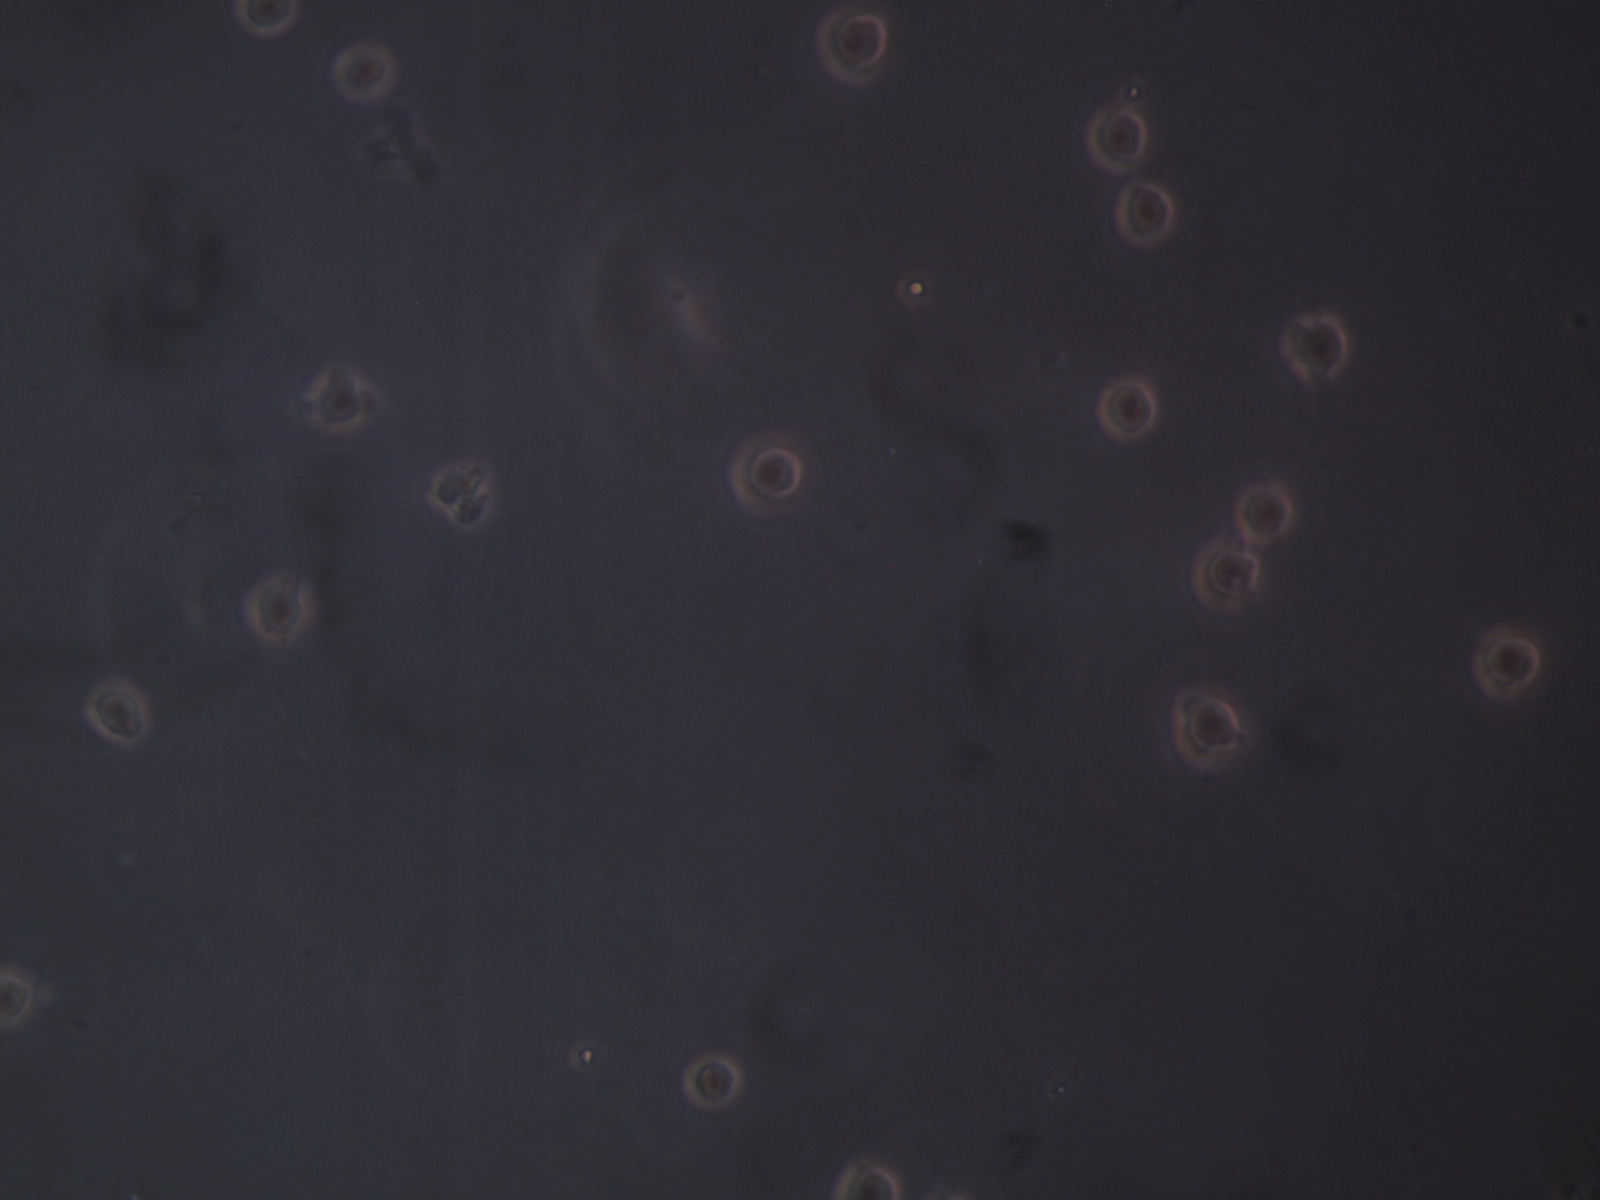hemo: (729, 434, 799, 521), (1471, 620, 1540, 705), (1172, 689, 1241, 771), (816, 8, 886, 87), (1189, 539, 1259, 616), (422, 460, 494, 527), (1280, 313, 1348, 379), (87, 679, 149, 746), (304, 366, 363, 434), (1083, 110, 1146, 173), (1097, 378, 1160, 440), (1114, 182, 1175, 245), (1233, 482, 1294, 545), (249, 575, 306, 640), (333, 44, 396, 101), (682, 1053, 740, 1109), (830, 1165, 903, 1200), (233, 1, 295, 37), (1, 971, 37, 1029)
